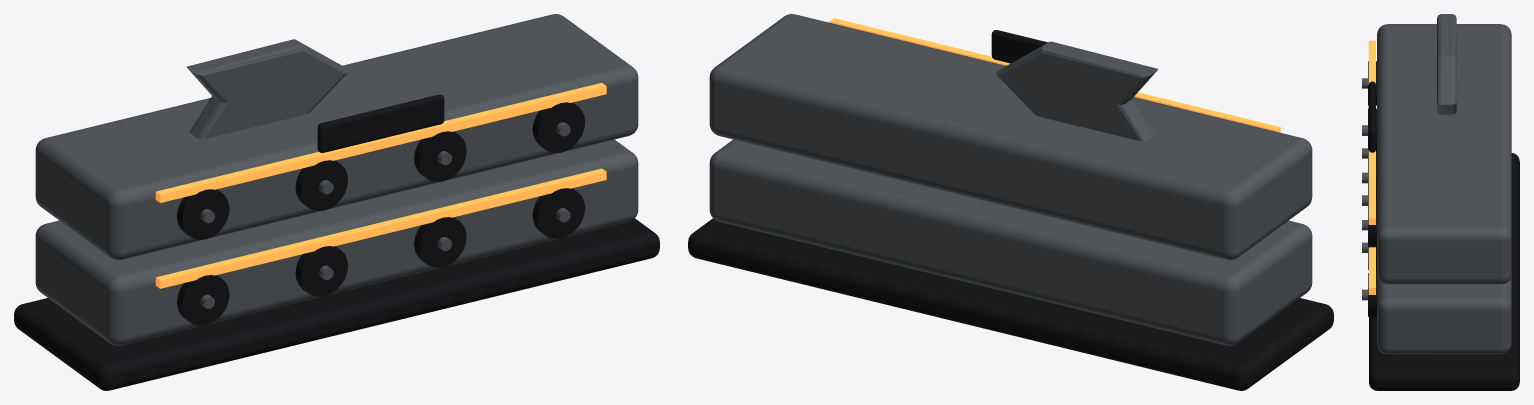
File: rented-gpu.glb
The picture shows the model from 3 angles, left to right: view 1: azimuth 30°, elevation 25°; view 2: azimuth 150°, elevation 25°; view 3: azimuth 270°, elevation 25°; orthographic projection. The views are drawn at different scales.
Parts seen in each view (by area): view 1: Rented_GPU_Chassis_B, Rented_GPU_Chassis_A, Rented_GPU_Sled, Rented_GPU_Interconnect, Rented_GPU_Chassis_A_PowerRail, Rented_GPU_Chassis_B_PowerRail, Rented_GPU_ProviderPlate, Rented_GPU_Chassis_A_Fan_03, Rented_GPU_Chassis_B_Fan_04, Rented_GPU_Chassis_B_Fan_03, Rented_GPU_Chassis_B_Fan_01, Rented_GPU_Chassis_A_Fan_04 (+3 smaller); view 2: Rented_GPU_Chassis_B, Rented_GPU_Chassis_A, Rented_GPU_Sled, Rented_GPU_Interconnect, Rented_GPU_Chassis_B_PowerRail, Rented_GPU_ProviderPlate; view 3: Rented_GPU_Chassis_B, Rented_GPU_Chassis_A, Rented_GPU_Sled, Rented_GPU_Interconnect, Rented_GPU_Chassis_B_PowerRail, Rented_GPU_ProviderPlate, Rented_GPU_Chassis_A_PowerRail, Rented_GPU_Chassis_B_Fan_04, Rented_GPU_Chassis_A_Fan_04.
Part boxes in pixels (x1,y1,x2,y2): Rented_GPU_Chassis_B: (35, 14, 638, 260); Rented_GPU_Chassis_A: (35, 139, 638, 345); Rented_GPU_Sled: (14, 218, 659, 390); Rented_GPU_Interconnect: (187, 39, 348, 139); Rented_GPU_Chassis_A_PowerRail: (155, 168, 606, 288); Rented_GPU_Chassis_B_PowerRail: (155, 83, 606, 202); Rented_GPU_ProviderPlate: (317, 94, 444, 152); Rented_GPU_Chassis_A_Fan_03: (414, 217, 466, 267); Rented_GPU_Chassis_B_Fan_04: (532, 102, 585, 153); Rented_GPU_Chassis_B_Fan_03: (414, 131, 466, 182); Rented_GPU_Chassis_B_Fan_01: (177, 189, 229, 239); Rented_GPU_Chassis_A_Fan_04: (532, 188, 585, 238); Rented_GPU_Chassis_B: (709, 14, 1312, 260); Rented_GPU_Chassis_A: (709, 139, 1312, 345); Rented_GPU_Sled: (688, 218, 1333, 390); Rented_GPU_Interconnect: (996, 41, 1157, 141); Rented_GPU_Chassis_B_PowerRail: (829, 18, 1280, 132); Rented_GPU_ProviderPlate: (991, 30, 1047, 63); Rented_GPU_Chassis_B: (1377, 24, 1511, 284); Rented_GPU_Chassis_A: (1377, 274, 1511, 354); Rented_GPU_Sled: (1369, 153, 1519, 390); Rented_GPU_Interconnect: (1437, 14, 1456, 114); Rented_GPU_Chassis_B_PowerRail: (1368, 40, 1375, 224); Rented_GPU_ProviderPlate: (1368, 81, 1375, 152); Rented_GPU_Chassis_A_PowerRail: (1368, 247, 1375, 294); Rented_GPU_Chassis_B_Fan_04: (1368, 203, 1376, 247); Rented_GPU_Chassis_A_Fan_04: (1368, 273, 1376, 316).
Bounding box in the file's own units: 3.22 × 1.42 × 0.961.
